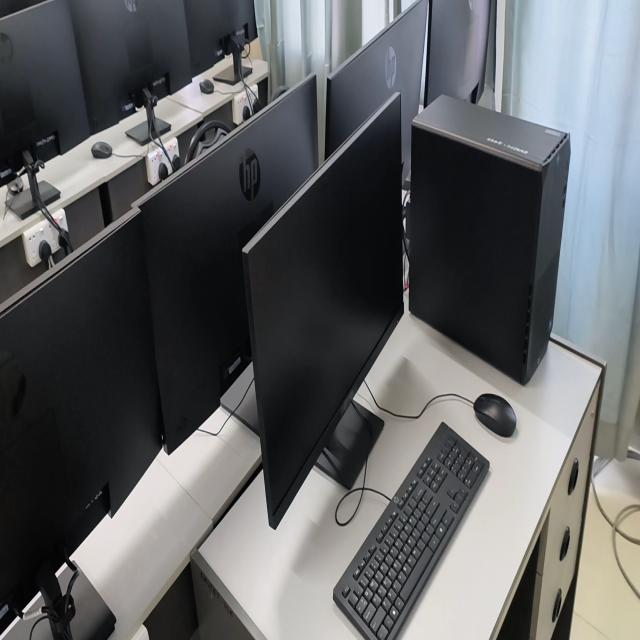Chair: (185, 121, 231, 164)
Cpu: (409, 95, 570, 385)
Keyboard: (333, 423, 489, 639)
Monitor: (243, 93, 403, 529), (0, 212, 163, 639), (139, 76, 318, 454), (326, 0, 428, 188), (69, 0, 195, 144), (0, 0, 90, 157), (423, 0, 491, 106), (184, 0, 257, 85)
Mouse: (473, 393, 516, 437), (91, 141, 112, 158), (199, 79, 214, 94)
